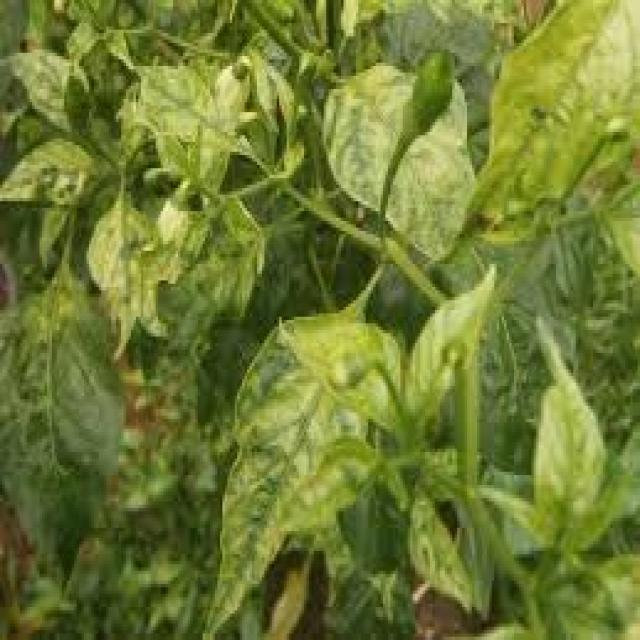Nutirtion_deficie: (152, 288, 407, 602), (0, 44, 265, 342), (399, 381, 640, 640), (420, 0, 640, 257), (261, 59, 455, 301)
